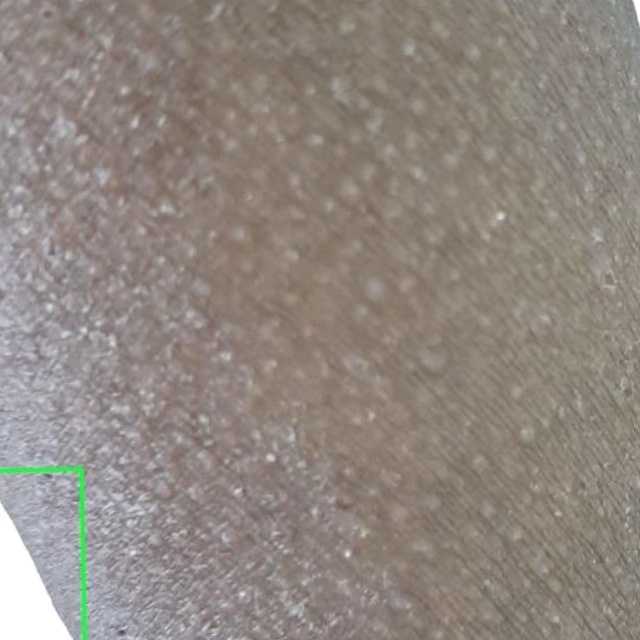Contact Dermatitis: (0, 468, 84, 639)
